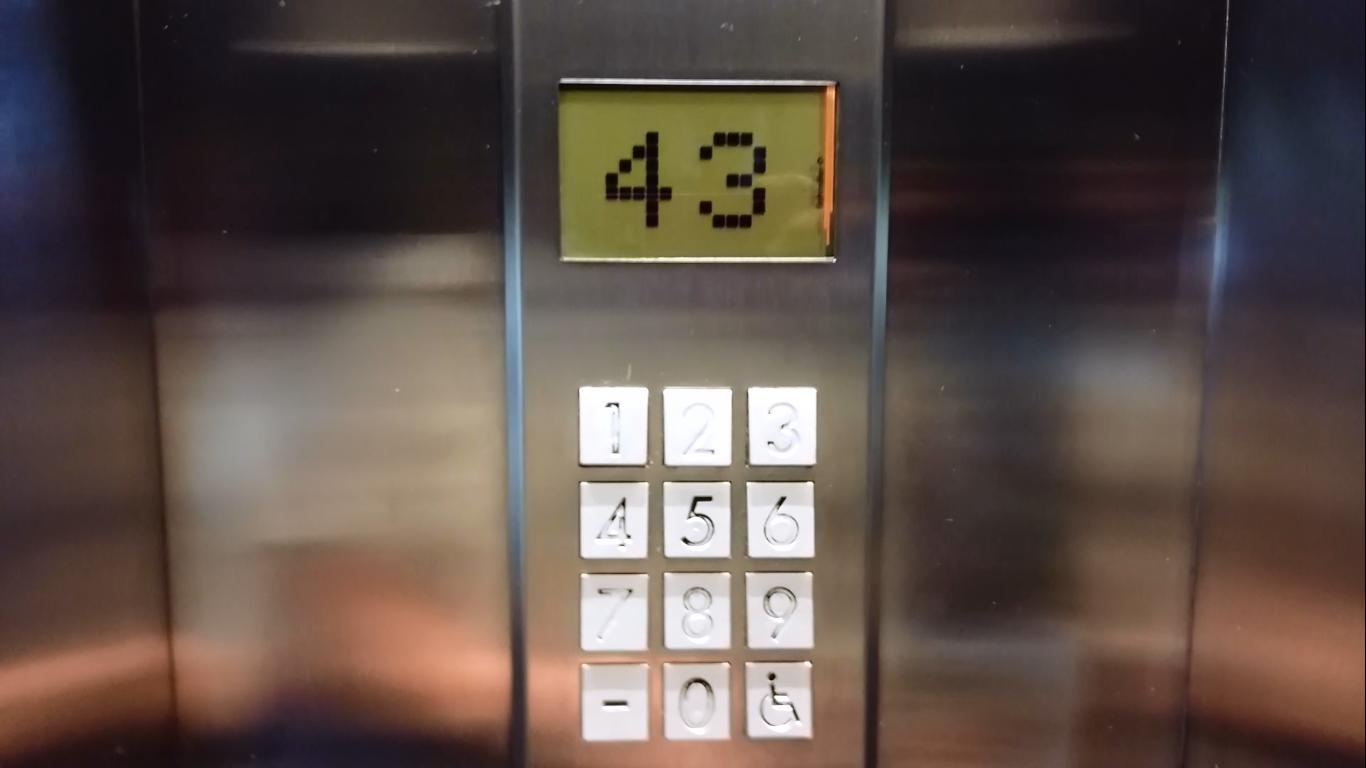-: (576, 658, 655, 746)
0: (657, 656, 736, 744)
1: (574, 383, 653, 471)
2: (659, 382, 738, 470)
3: (744, 381, 823, 469)
4: (575, 475, 654, 563)
5: (658, 475, 737, 563)
6: (740, 474, 819, 562)
7: (575, 568, 654, 656)
8: (657, 566, 736, 654)
9: (739, 565, 818, 653)
CH: (738, 655, 817, 743)
led: (550, 71, 841, 270)
